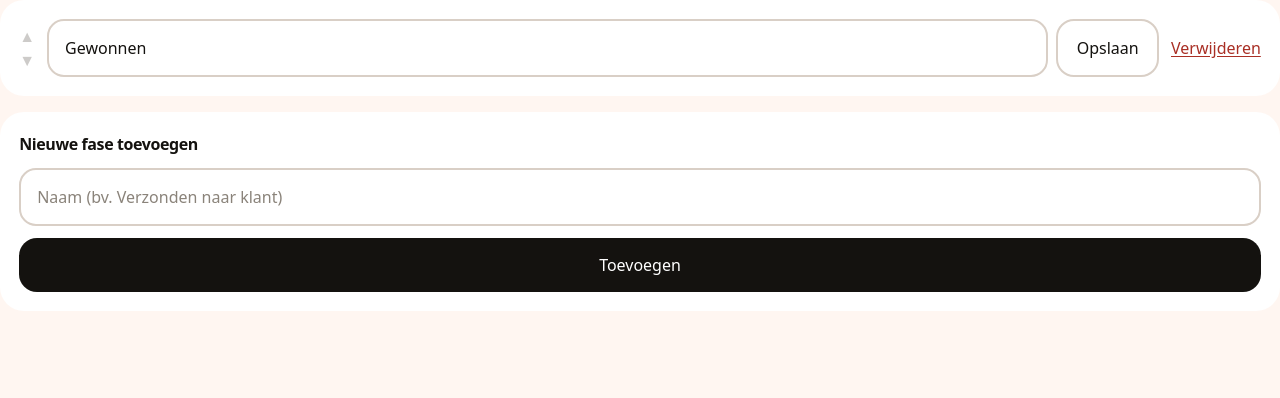
Scenario: PipelineStagesForm › surfaces the Dutch error from a failed delete
This screenshot has width=1280, height=398.
Click the button "Verwijderen". click: x=1216, y=48
box: [1171,26,1261,70]
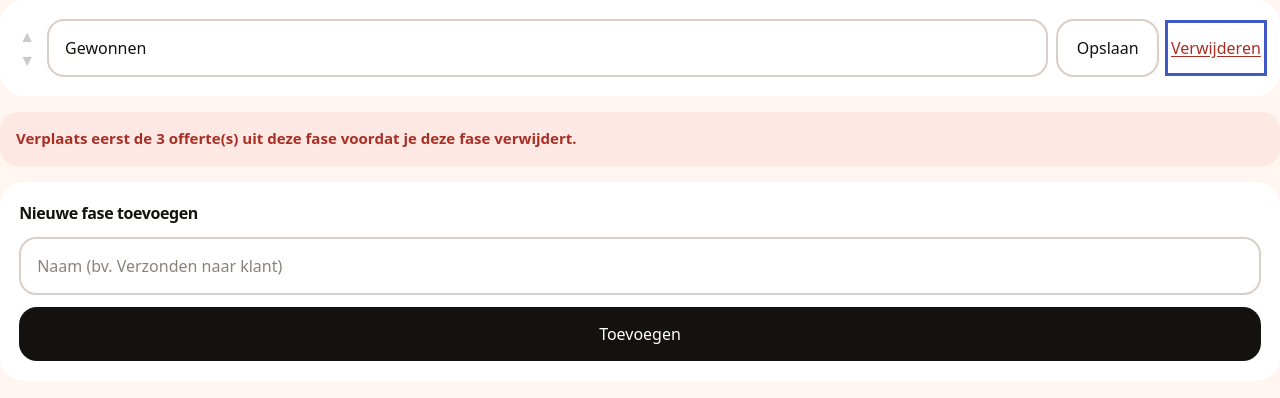
Result: the message shows "Verplaats eerst de 3 offerte(s)" at [16,128,577,148]
